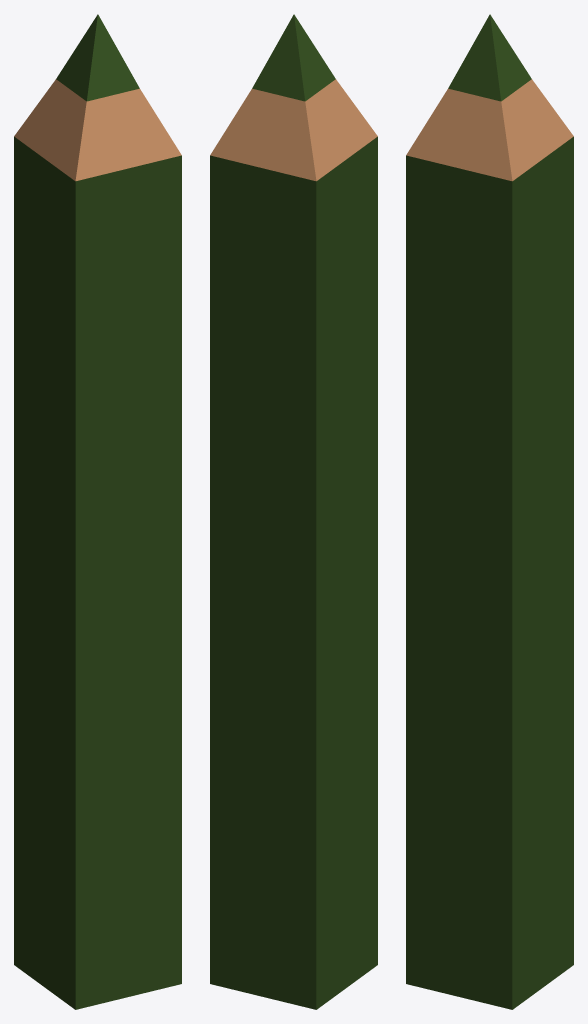
File: dgreenpencil.fbx
The picture shows the model from 3 angles, left to right: view 1: azimuth 30°, elevation 25°; view 2: azimuth 150°, elevation 25°; view 3: azimuth 330°, elevation 25°; orthographic projection.
Parts seen in each view (by area): view 1: pCube1; view 2: pCube1; view 3: pCube1.
Part boxes in pixels (<box>): pCube1: <box>14,14,181,1009</box>; pCube1: <box>210,14,377,1009</box>; pCube1: <box>406,14,573,1009</box>.
Bounding box in the file's own units: 1 × 8.62 × 1.
